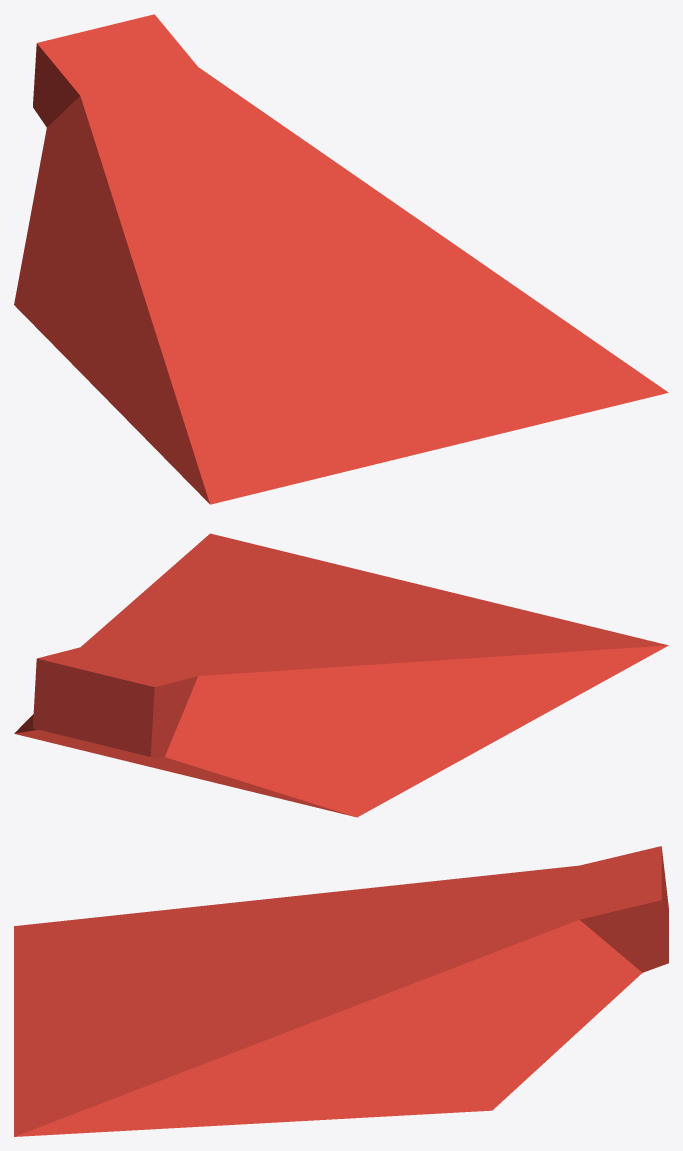
The model's file is indikator_lvl_2.fbx.
The picture shows the model from 3 angles, top to bottom: view 1: azimuth 30°, elevation 25°; view 2: azimuth 150°, elevation 25°; view 3: azimuth 270°, elevation 25°; orthographic projection. The views are drawn at different scales.
Parts seen in each view (by area): view 1: Cylinder.001; view 2: Cylinder.001; view 3: Cylinder.001.
Part boxes in pixels (x1,y1,x2,y2): Cylinder.001: (14, 14, 668, 504); Cylinder.001: (14, 533, 668, 817); Cylinder.001: (14, 846, 668, 1136).
Bounding box in the file's own units: 757 × 266 × 994.
